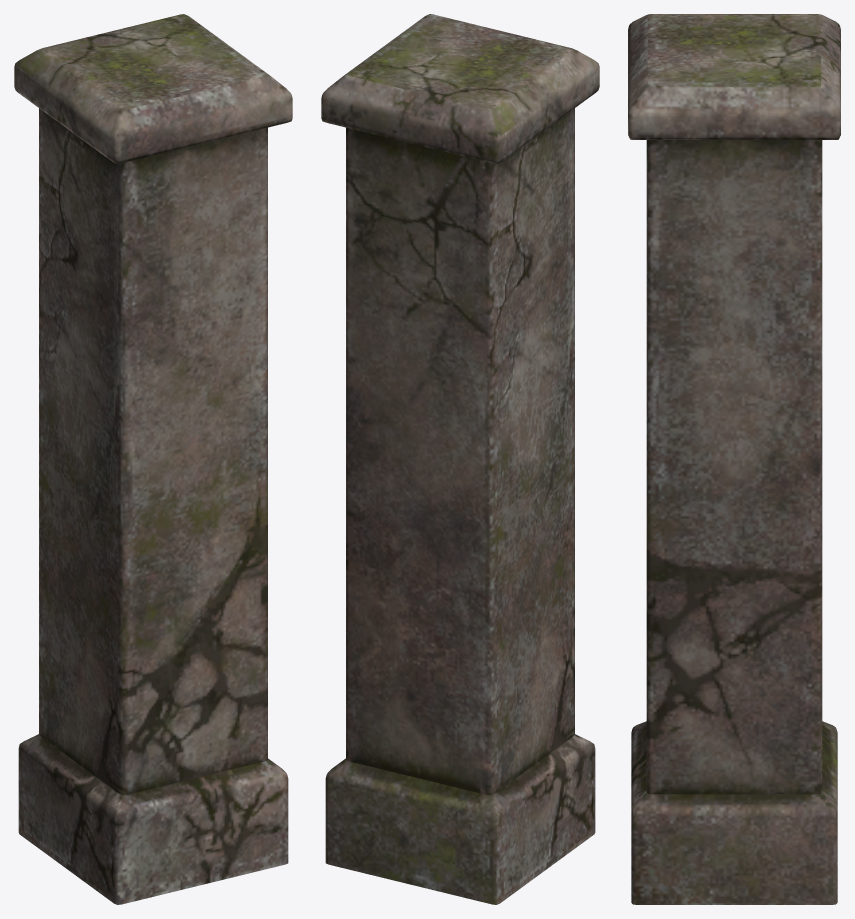
File: SM_fence_04.fbx
The picture shows the model from 3 angles, left to right: view 1: azimuth 30°, elevation 25°; view 2: azimuth 150°, elevation 25°; view 3: azimuth 270°, elevation 25°; orthographic projection. The views are drawn at different scales.
Visible parts, largest first — view 1: SM_fence_04; view 2: SM_fence_04; view 3: SM_fence_04.
Boxes of the visible parts, left/top/right/bottom form: SM_fence_04: left=14, top=14, right=292, bottom=904; SM_fence_04: left=321, top=14, right=599, bottom=904; SM_fence_04: left=628, top=14, right=840, bottom=904.
Size of the model in its own units: 16.33 by 68.69 by 16.33.
